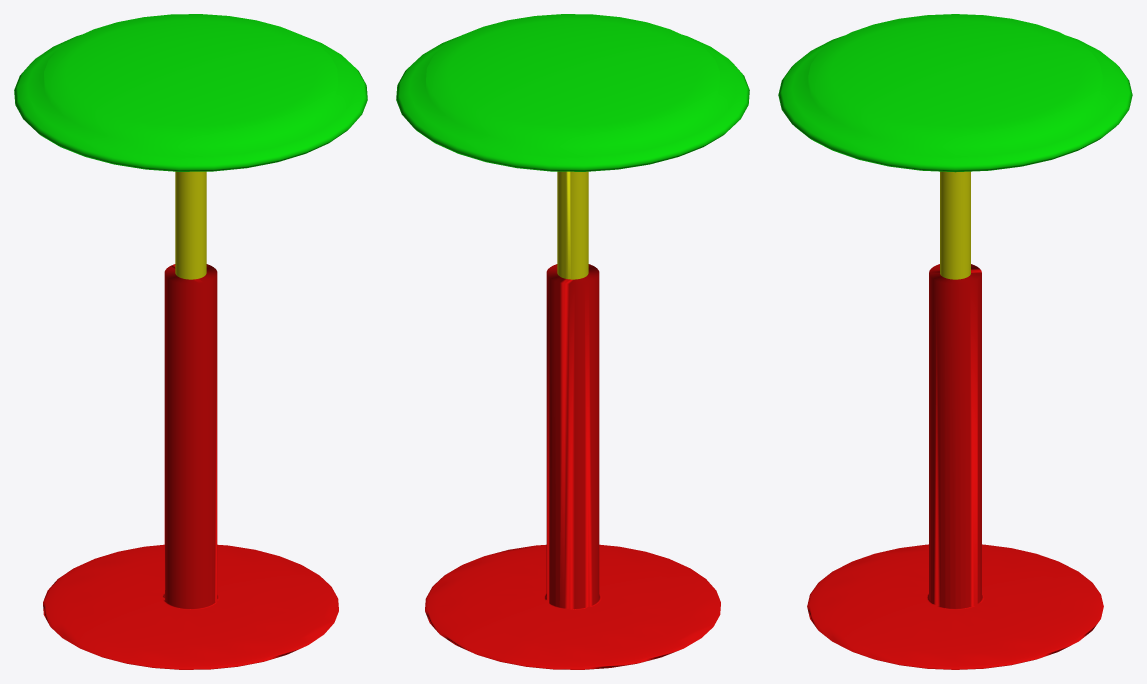
Rendered from SM_tallchair.fbx.
3 renders of one model, left to right at view 1: azimuth 30°, elevation 25°; view 2: azimuth 150°, elevation 25°; view 3: azimuth 270°, elevation 25°, orthographic.
Parts seen in each view (by area): view 1: Sphere_001; view 2: Sphere_001; view 3: Sphere_001.
Boxes of the visible parts, bbox=[...] form: Sphere_001: bbox=[14, 14, 367, 669]; Sphere_001: bbox=[396, 14, 749, 669]; Sphere_001: bbox=[778, 14, 1132, 669].
Bounding box in the file's own units: 239 × 407 × 239.
